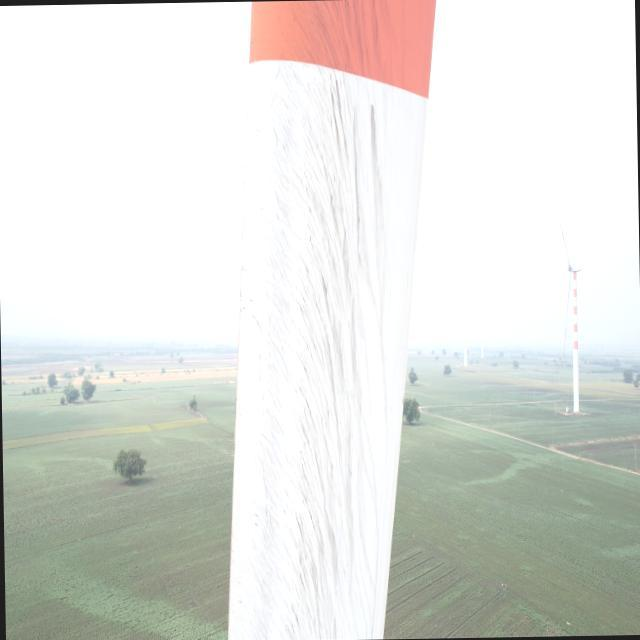Dirt: (270, 0, 388, 639)
